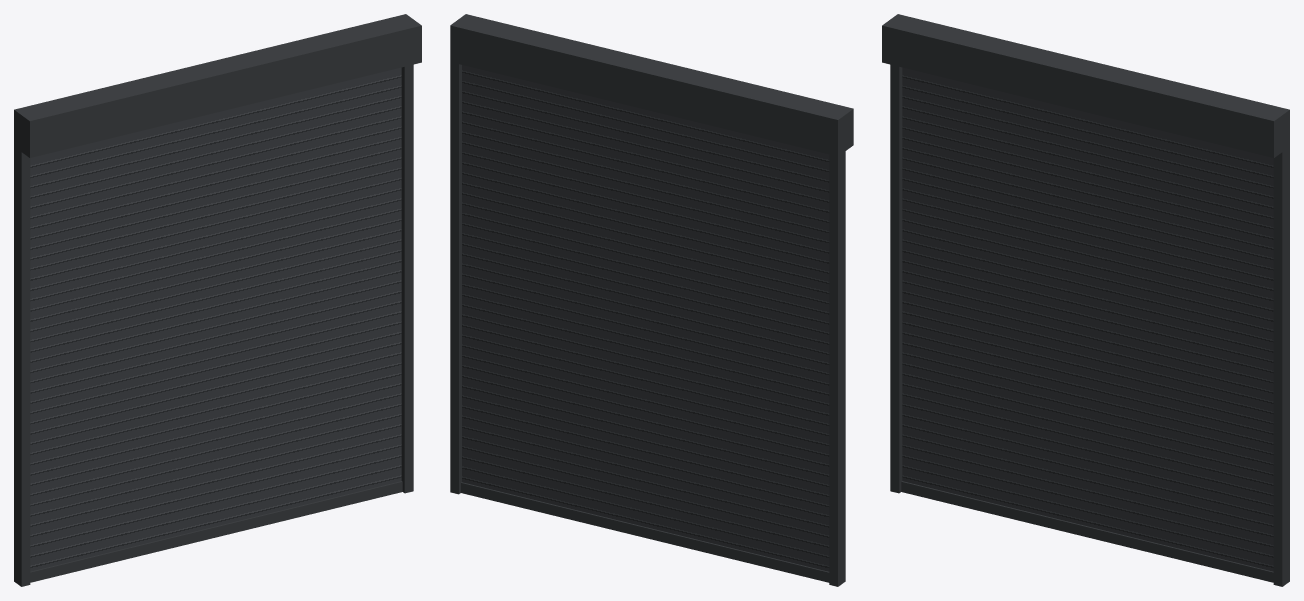
The model's file is roller-shutter-door.glb.
3 renders of one model, left to right at view 1: azimuth 30°, elevation 25°; view 2: azimuth 150°, elevation 25°; view 3: azimuth 330°, elevation 25°, orthographic.
Parts seen in each view (by area): view 1: cover-curtain, shutter-frame, cover-rail; view 2: cover-curtain, shutter-frame, cover-rail; view 3: cover-curtain, shutter-frame, cover-rail.
Part boxes in pixels (x1,y1,x2,y2): cover-curtain: (30,67,401,571); shutter-frame: (14,14,421,586); cover-rail: (30,481,402,582); cover-curtain: (462,65,829,571); shutter-frame: (450,14,853,586); cover-rail: (461,482,829,582); cover-curtain: (902,67,1273,571); shutter-frame: (882,14,1289,586); cover-rail: (901,481,1273,582).
Bounding box in the file's own units: 2 × 2.3 × 0.14.
2 materials, 1 textured.
